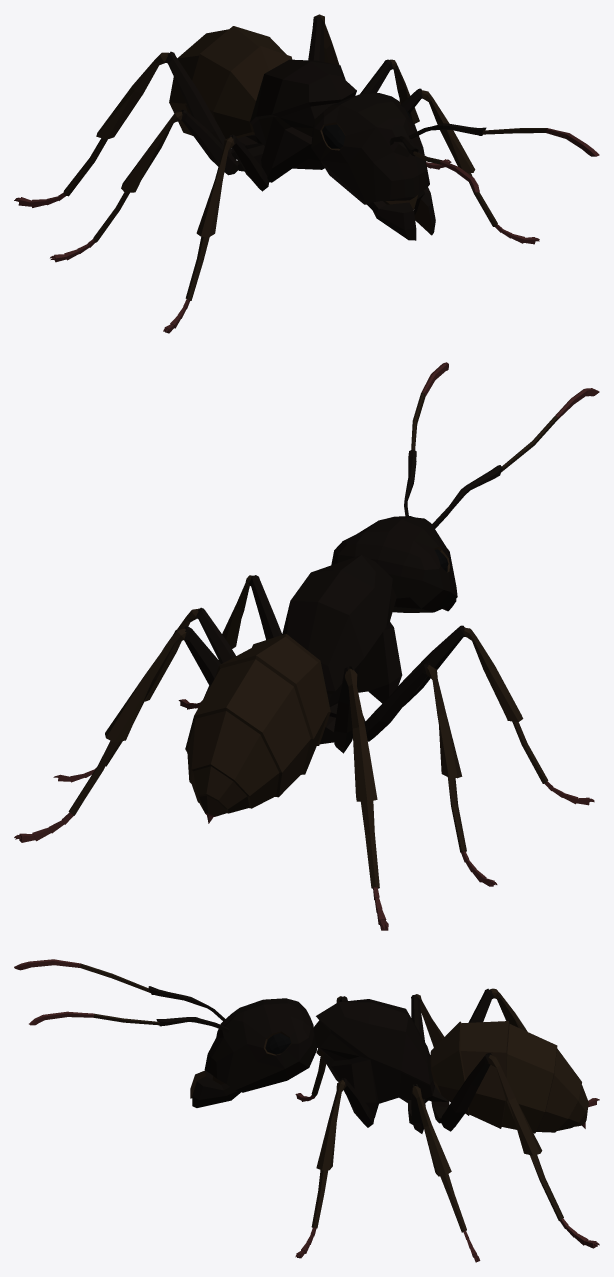
Rendered from Ant 1.fbx.
The picture shows the model from 3 angles, top to bottom: view 1: azimuth 30°, elevation 25°; view 2: azimuth 150°, elevation 25°; view 3: azimuth 270°, elevation 25°; orthographic projection. The views are drawn at different scales.
Parts seen in each view (by area): view 1: Body.023; view 2: Body.023; view 3: Body.023.
Boxes of the visible parts, left/top/right/bottom form: Body.023: left=14, top=14, right=599, bottom=333; Body.023: left=14, top=362, right=599, bottom=930; Body.023: left=14, top=959, right=599, bottom=1262.
Size of the model in its own units: 807 by 442 by 1144.
